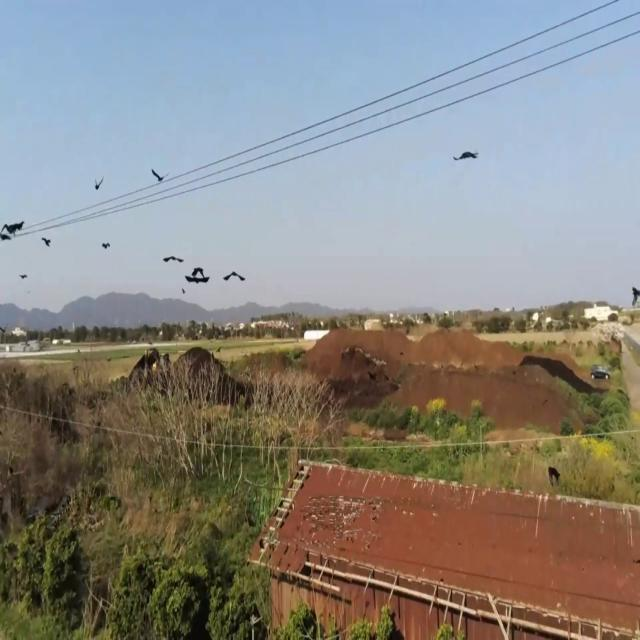bird: (186, 260, 210, 291), (1, 212, 23, 245), (454, 142, 478, 172), (223, 264, 245, 290), (163, 246, 183, 270), (631, 279, 640, 309), (152, 163, 162, 187), (42, 231, 51, 250), (101, 235, 110, 253), (95, 174, 103, 193), (20, 267, 27, 284)
